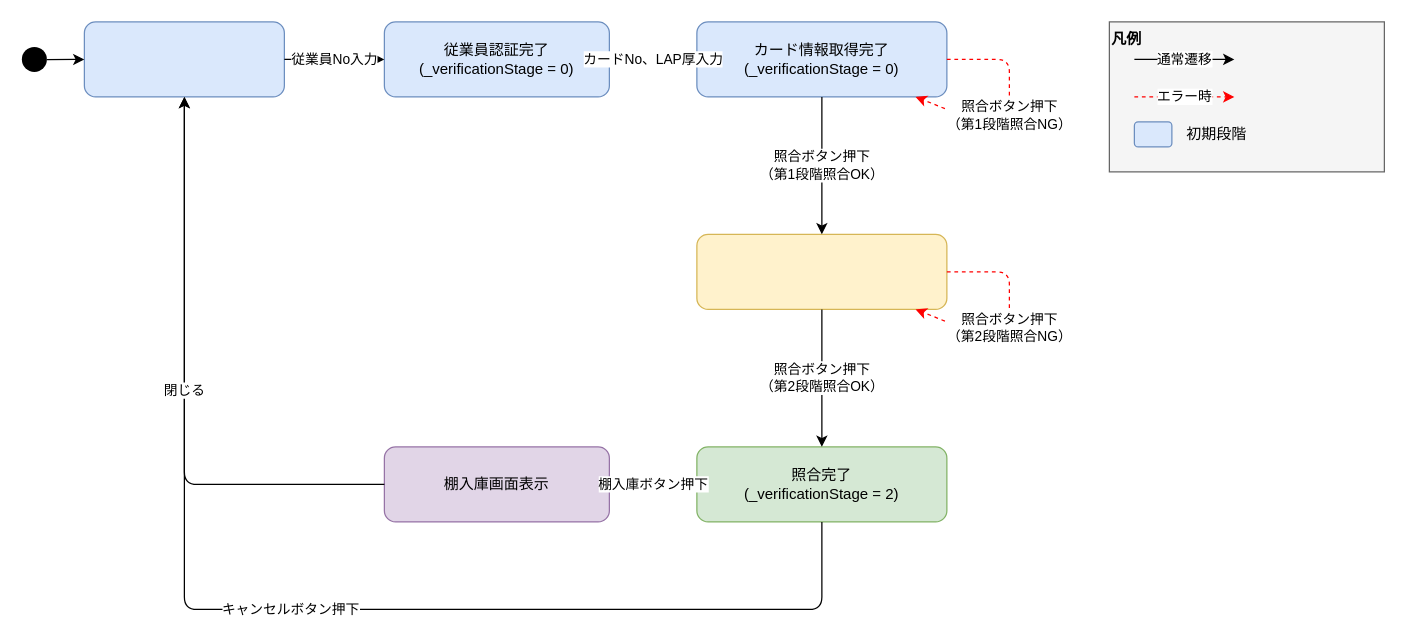
Some shapes in this 1406 by 641 pixel diagram are drawn without their labels. The centre of each missing label's shape, as x and y in pixels:
初期状態 (_verificationStage = 0): [183,59]
第1段階完了 (_verificationStage = 1): [821,271]
